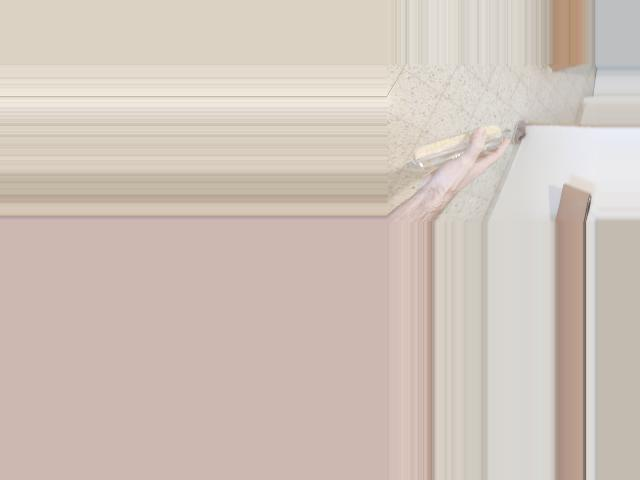cheese: (422, 112, 515, 193)
